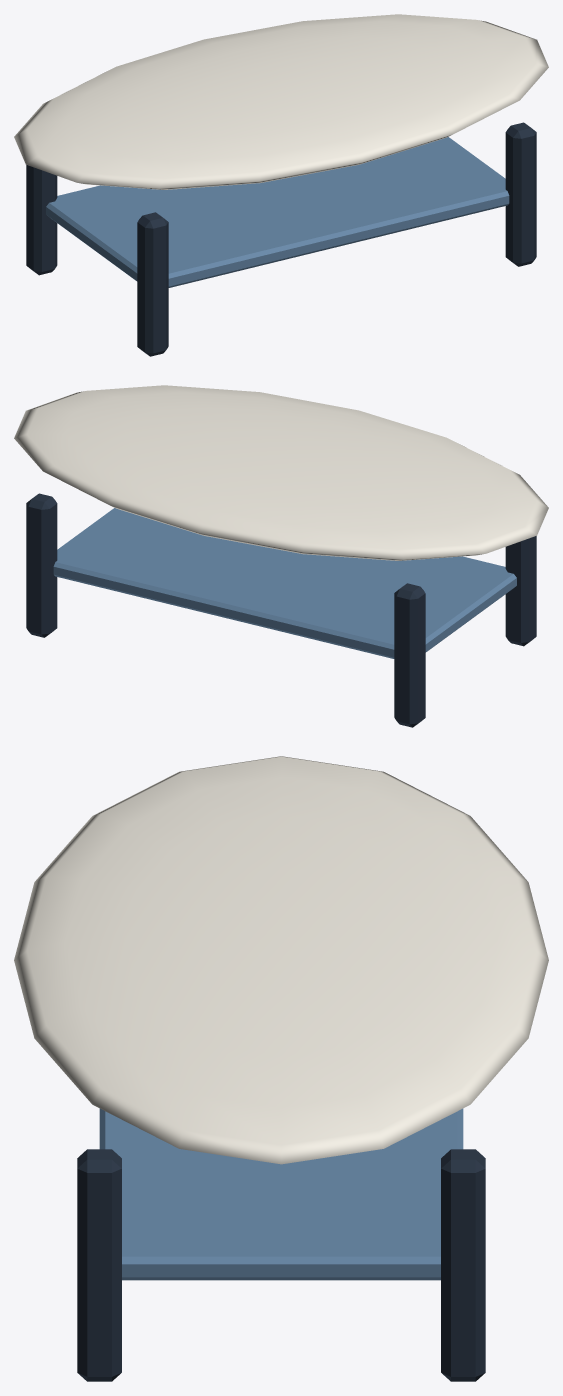
The model's file is living_10.glb.
3 renders of one model, top to bottom at view 1: azimuth 30°, elevation 25°; view 2: azimuth 150°, elevation 25°; view 3: azimuth 270°, elevation 25°, orthographic. The views are drawn at different scales.
Parts seen in each view (by area): view 1: OvalTop, LowerShelf, Leg (×3); view 2: OvalTop, LowerShelf, Leg (×3); view 3: OvalTop, LowerShelf, Leg (×2).
Boxes of the visible parts, <box> form: OvalTop: <box>14,14,548,189</box>; LowerShelf: <box>46,137,509,287</box>; Leg (×3): <box>26,122,536,356</box>; OvalTop: <box>14,385,548,560</box>; LowerShelf: <box>53,508,516,658</box>; Leg (×3): <box>26,493,536,727</box>; OvalTop: <box>14,756,548,1164</box>; LowerShelf: <box>99,1108,463,1280</box>; Leg (×2): <box>77,1149,485,1381</box>.
Bounding box in the file's own units: 1.3 × 0.445 × 0.72.
